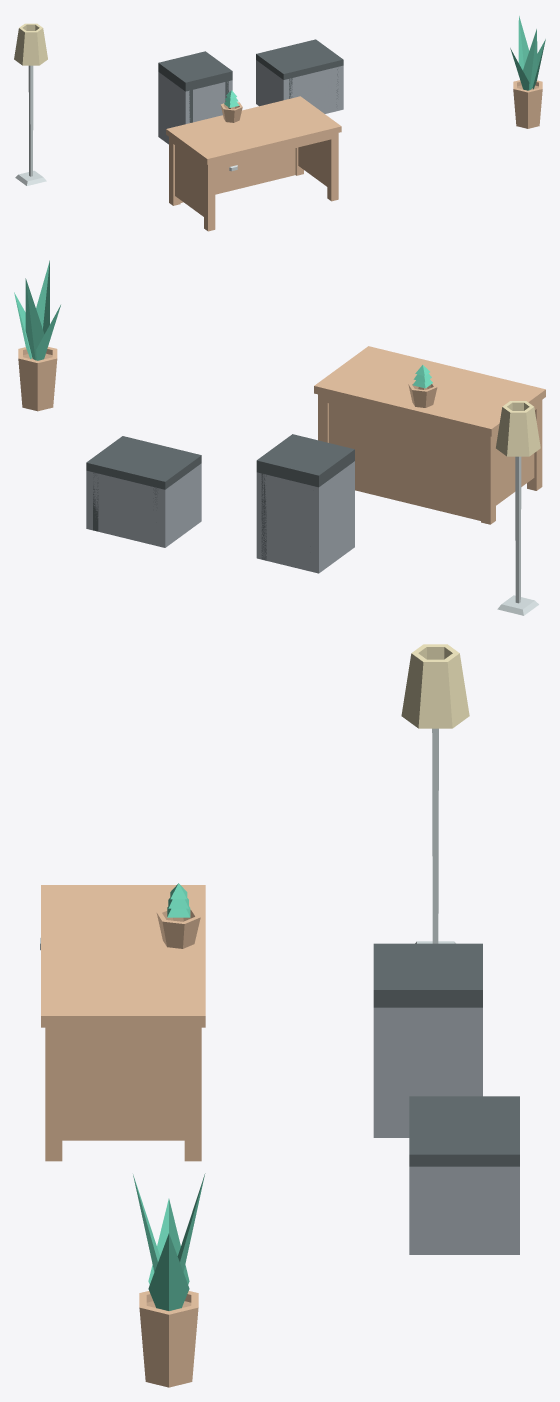
The picture shows the model from 3 angles, top to bottom: view 1: azimuth 30°, elevation 25°; view 2: azimuth 150°, elevation 25°; view 3: azimuth 270°, elevation 25°; orthographic projection. The views are drawn at different scales.
Parts seen in each view (by area): view 1: desk_blue__desk(Clone), crate_red__crate_red shell, bin_gray__bin_gray shell, crate_red__crate_red lid, lamp_white__lampRoundFloor(Clone), bin_gray__bin_gray lid, plant_pink__plant, plant_pink__pottedPlant(Clone), flowerpot_green__plantSmall1(Clone), desk_blue__drawer; view 2: desk_blue__desk(Clone), bin_gray__bin_gray shell, crate_red__crate_red shell, crate_red__crate_red lid, lamp_white__lampRoundFloor(Clone), bin_gray__bin_gray lid, plant_pink__plant, plant_pink__pottedPlant(Clone), flowerpot_green__plantSmall1(Clone), bin_gray__bin_gray band.001; view 3: desk_blue__desk(Clone), bin_gray__bin_gray shell, crate_red__crate_red shell, crate_red__crate_red lid, bin_gray__bin_gray lid, lamp_white__lampRoundFloor(Clone), plant_pink__pottedPlant(Clone), plant_pink__plant, flowerpot_green__plantSmall1(Clone).
Boxes of the visible parts, left/top/right/bottom form: desk_blue__desk(Clone): left=166, top=96, right=341, bottom=231; crate_red__crate_red shell: left=256, top=60, right=343, bottom=113; bin_gray__bin_gray shell: left=158, top=72, right=232, bottom=144; crate_red__crate_red lid: left=256, top=39, right=343, bottom=79; lamp_white__lampRoundFloor(Clone): left=14, top=23, right=47, bottom=185; bin_gray__bin_gray lid: left=158, top=51, right=232, bottom=91; plant_pink__plant: left=510, top=16, right=545, bottom=90; plant_pink__pottedPlant(Clone): left=513, top=80, right=542, bottom=128; flowerpot_green__plantSmall1(Clone): left=221, top=90, right=242, bottom=122; desk_blue__drawer: left=215, top=159, right=251, bottom=176; desk_blue__desk(Clone): left=314, top=346, right=545, bottom=524; bin_gray__bin_gray shell: left=256, top=461, right=354, bottom=573; crate_red__crate_red shell: left=86, top=463, right=201, bottom=547; crate_red__crate_red lid: left=86, top=436, right=201, bottom=489; lamp_white__lampRoundFloor(Clone): left=496, top=401, right=540, bottom=615; bin_gray__bin_gray lid: left=256, top=434, right=354, bottom=487; plant_pink__plant: left=14, top=260, right=60, bottom=360; plant_pink__pottedPlant(Clone): left=18, top=346, right=57, bottom=411; flowerpot_green__plantSmall1(Clone): left=408, top=365, right=437, bottom=407; bin_gray__bin_gray band.001: left=261, top=437, right=298, bottom=560; desk_blue__desk(Clone): left=41, top=885, right=205, bottom=1161; bin_gray__bin_gray shell: left=373, top=1007, right=482, bottom=1137; crate_red__crate_red shell: left=409, top=1166, right=519, bottom=1254; crate_red__crate_red lid: left=409, top=1096, right=519, bottom=1166; bin_gray__bin_gray lid: left=373, top=943, right=482, bottom=1007; lamp_white__lampRoundFloor(Clone): left=401, top=644, right=469, bottom=943; plant_pink__pottedPlant(Clone): left=139, top=1291, right=198, bottom=1387; plant_pink__plant: left=133, top=1173, right=205, bottom=1310; flowerpot_green__plantSmall1(Clone): left=156, top=883, right=200, bottom=948.
Size of the model in its own units: 4.39 by 1.38 by 1.98.
